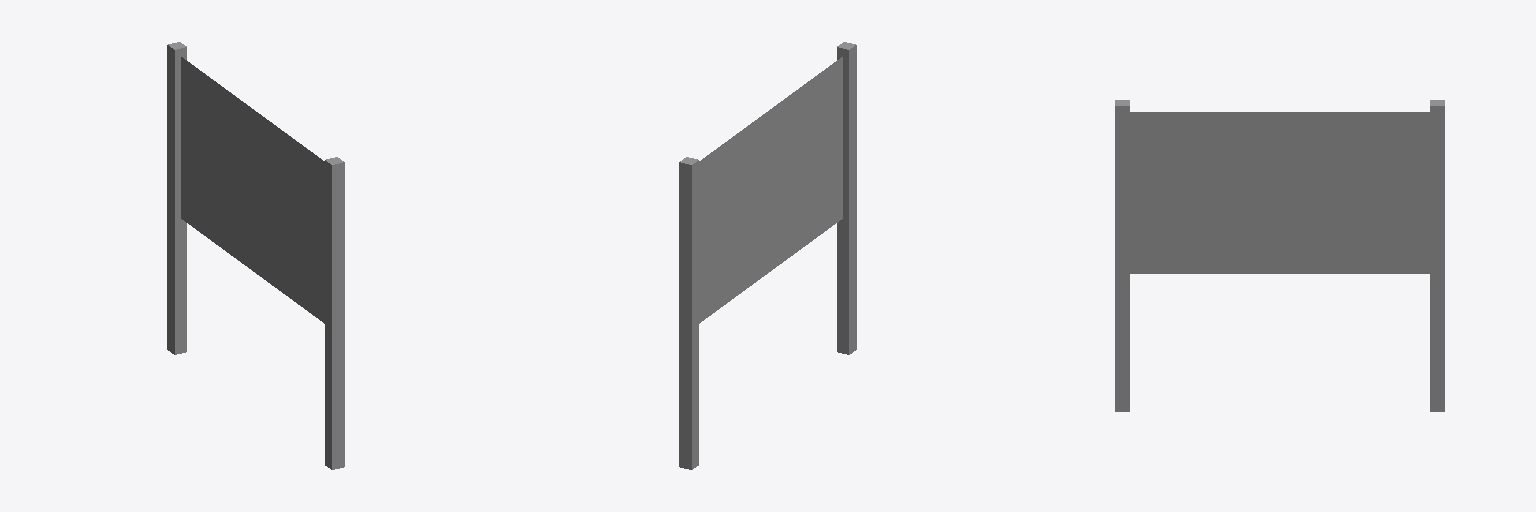
File: prop_billboard.obj
The picture shows the model from 3 angles: view 1: azimuth 30°, elevation 25°; view 2: azimuth 150°, elevation 25°; view 3: azimuth 270°, elevation 25°; orthographic projection.
Visible parts, largest first — view 1: Plane, Cube_Cube.001, Cube.001_Cube.002; view 2: Plane, Cube.001_Cube.002, Cube_Cube.001; view 3: Plane, Cube.001_Cube.002, Cube_Cube.001.
Part boxes in pixels (left/top/right/bottom): Plane: left=181, top=57, right=324, bottom=323; Cube_Cube.001: left=325, top=157, right=344, bottom=469; Cube.001_Cube.002: left=167, top=42, right=186, bottom=354; Plane: left=699, top=57, right=842, bottom=323; Cube.001_Cube.002: left=679, top=157, right=698, bottom=469; Cube_Cube.001: left=837, top=42, right=856, bottom=354; Plane: left=1130, top=112, right=1429, bottom=273; Cube.001_Cube.002: left=1430, top=100, right=1444, bottom=411; Cube_Cube.001: left=1115, top=100, right=1129, bottom=411.
Size of the model in its own units: 0.0184 by 0.4281 by 0.4184.